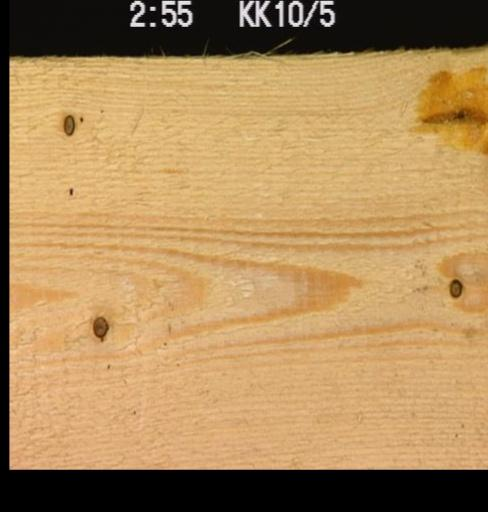dry_knot: (91, 313, 108, 341), (61, 112, 75, 136), (447, 277, 462, 297)
